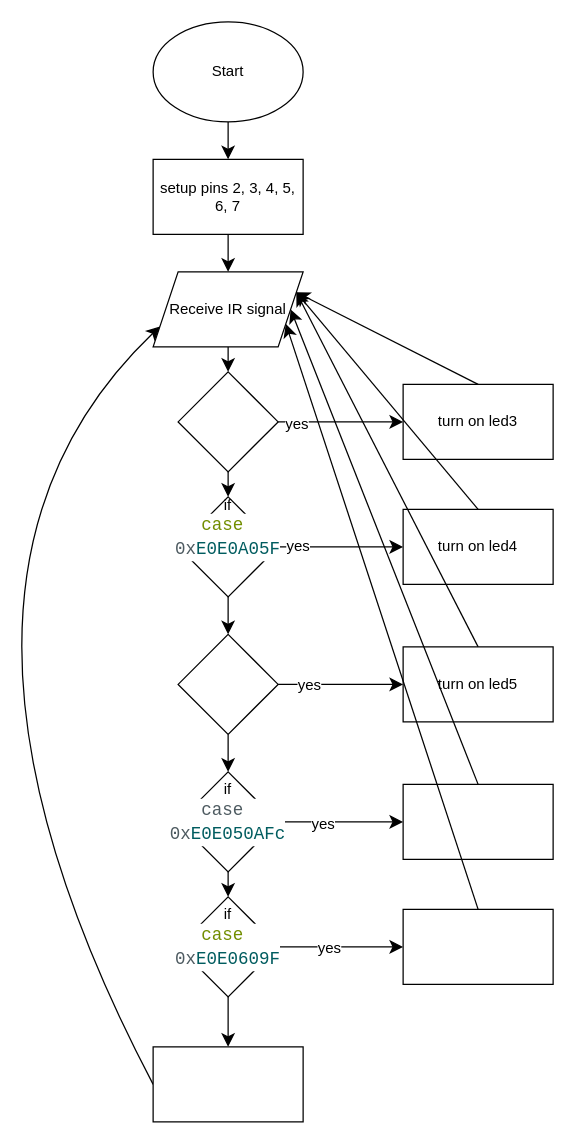
Some shapes in this 576 by 1144 pixel diagram are drawn without their labels. Here are the shapes that lost their labels. From the top down, the centre of each, then its label:
At [227,421]: "if case 0x E0E020DF".
At [227,683]: "if case 0x E0E010EF".
At [477,821]: "turn on led6".
At [477,946]: "turn on led7".
At [227,1084]: "turn all digitalWrite on and off".
